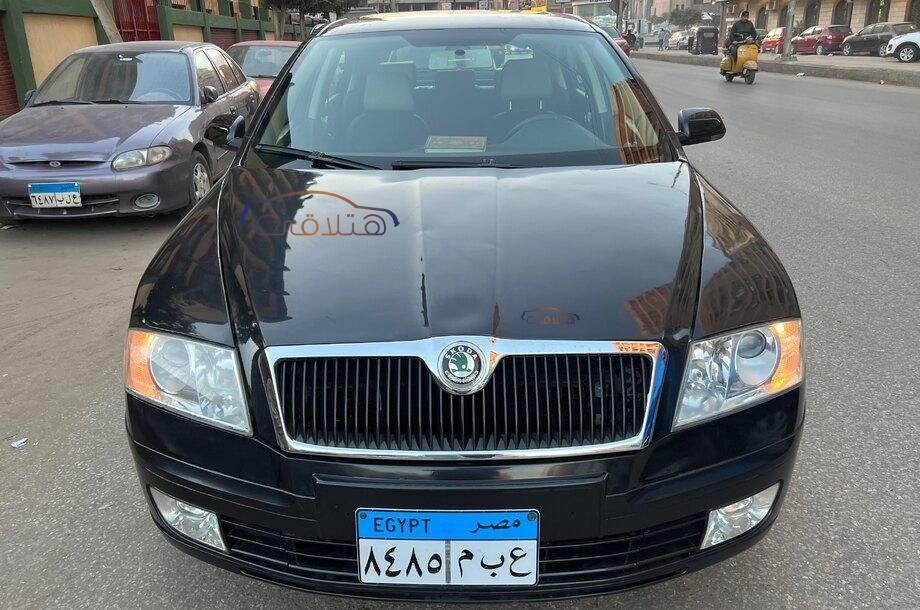skoda: (434, 328, 489, 400)
